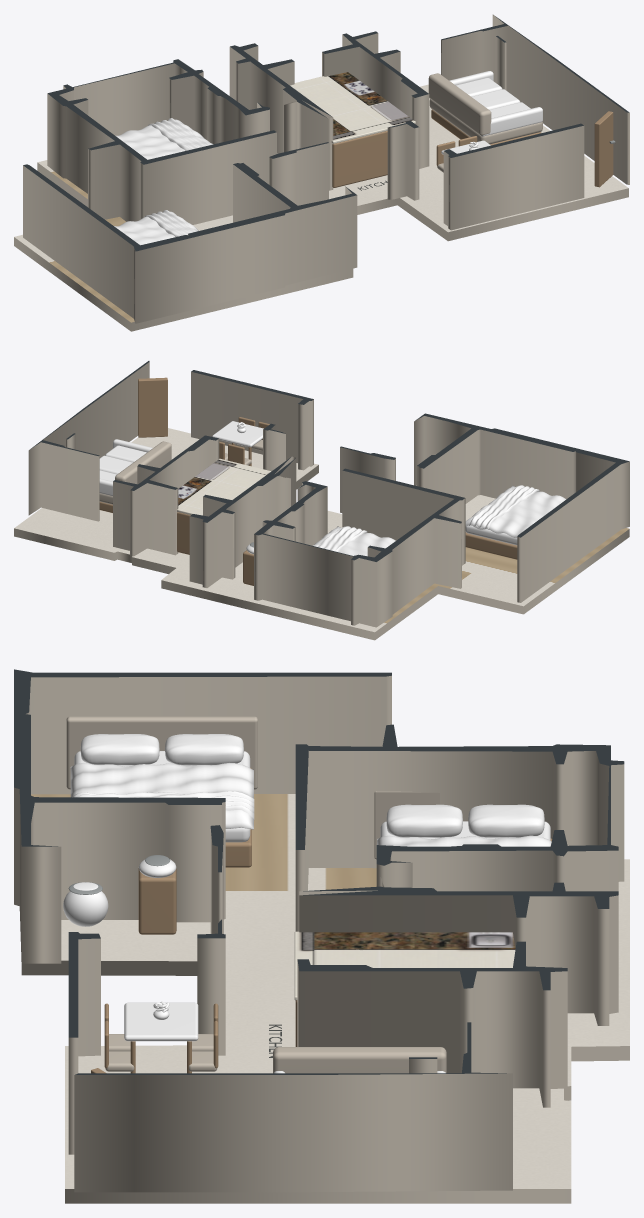
The model's file is carina-vega-unit-06.glb.
3 views of the same model, one above another, from view 1: azimuth 30°, elevation 25°; view 2: azimuth 150°, elevation 25°; view 3: azimuth 270°, elevation 25° (orthographic). The views are drawn at different scales.
Visible parts, largest first — view 1: Partition walls, Apartment floor, Stone worktop, Kitchen cabinets, Sofa back, Draped bed linen, Open oak door, Upholstered sofa frame, Draped bed linen.002, Draped bed linen.001, Padded armrest, Draped bed linen.003 (+3 smaller); view 2: Partition walls, Apartment floor, Stone worktop, Draped bed linen.002, Open oak door, Draped bed linen.003, Sofa back, Draped bed linen, Marble dining top, Walnut upholstered base.001, Draped bed linen.001, Kitchen cabinets (+3 smaller); view 3: Partition walls, Apartment floor, Stone worktop, Draped bed linen.002, Upholstered headboard.001, Sofa back, Marble dining top, Tailored pillow, Tailored pillow.001, Tailored pillow.002, Vanity cabinet.001, Tailored pillow.003 (+6 smaller).
Boxes of the visible parts, left/top/right/bottom form: Partition walls: left=23, top=14, right=629, bottom=323; Apartment floor: left=14, top=84, right=628, bottom=331; Stone worktop: left=290, top=72, right=415, bottom=143; Kitchen cabinets: left=332, top=131, right=387, bottom=187; Sofa back: left=428, top=73, right=491, bottom=135; Draped bed linen: left=115, top=119, right=213, bottom=159; Open oak door: left=594, top=111, right=613, bottom=187; Upholstered sofa frame: left=429, top=99, right=542, bottom=144; Draped bed linen.002: left=114, top=211, right=198, bottom=245; Draped bed linen.001: left=148, top=118, right=209, bottom=150; Padded armrest: left=480, top=107, right=542, bottom=136; Draped bed linen.003: left=144, top=210, right=196, bottom=236; Partition walls: left=28, top=361, right=629, bottom=627; Apartment floor: left=14, top=428, right=629, bottom=640; Stone worktop: left=177, top=458, right=270, bottom=515; Draped bed linen.002: left=465, top=485, right=566, bottom=537; Open oak door: left=138, top=377, right=167, bottom=437; Draped bed linen.003: left=468, top=485, right=539, bottom=529; Sofa back: left=115, top=441, right=171, bottom=483; Draped bed linen: left=313, top=526, right=395, bottom=556; Marble dining top: left=212, top=421, right=263, bottom=447; Walnut upholstered base.001: left=465, top=532, right=517, bottom=559; Draped bed linen.001: left=315, top=526, right=367, bottom=551; Kitchen cabinets: left=177, top=512, right=190, bottom=554; Partition walls: left=14, top=669, right=624, bottom=1192; Apartment floor: left=21, top=794, right=629, bottom=1203; Stone worktop: left=294, top=931, right=515, bottom=1000; Draped bed linen.002: left=70, top=763, right=253, bottom=829; Upholstered headboard.001: left=66, top=716, right=257, bottom=789; Sofa back: left=273, top=1047, right=446, bottom=1073; Marble dining top: left=124, top=1002, right=198, bottom=1041; Tailored pillow: left=386, top=804, right=462, bottom=837; Tailored pillow.001: left=468, top=804, right=544, bottom=837; Tailored pillow.002: left=80, top=734, right=159, bottom=765; Vanity cabinet.001: left=138, top=868, right=176, bottom=934; Tailored pillow.003: left=165, top=734, right=243, bottom=765.
Bounding box in the file's own units: 9.54 × 1.44 × 6.1.
Materials: 12 (2 with a texture image).
